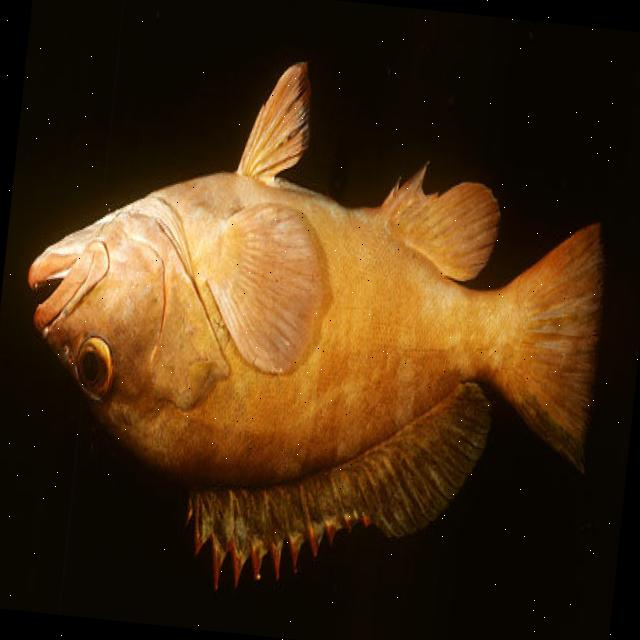ikan: (0, 31, 627, 626)
